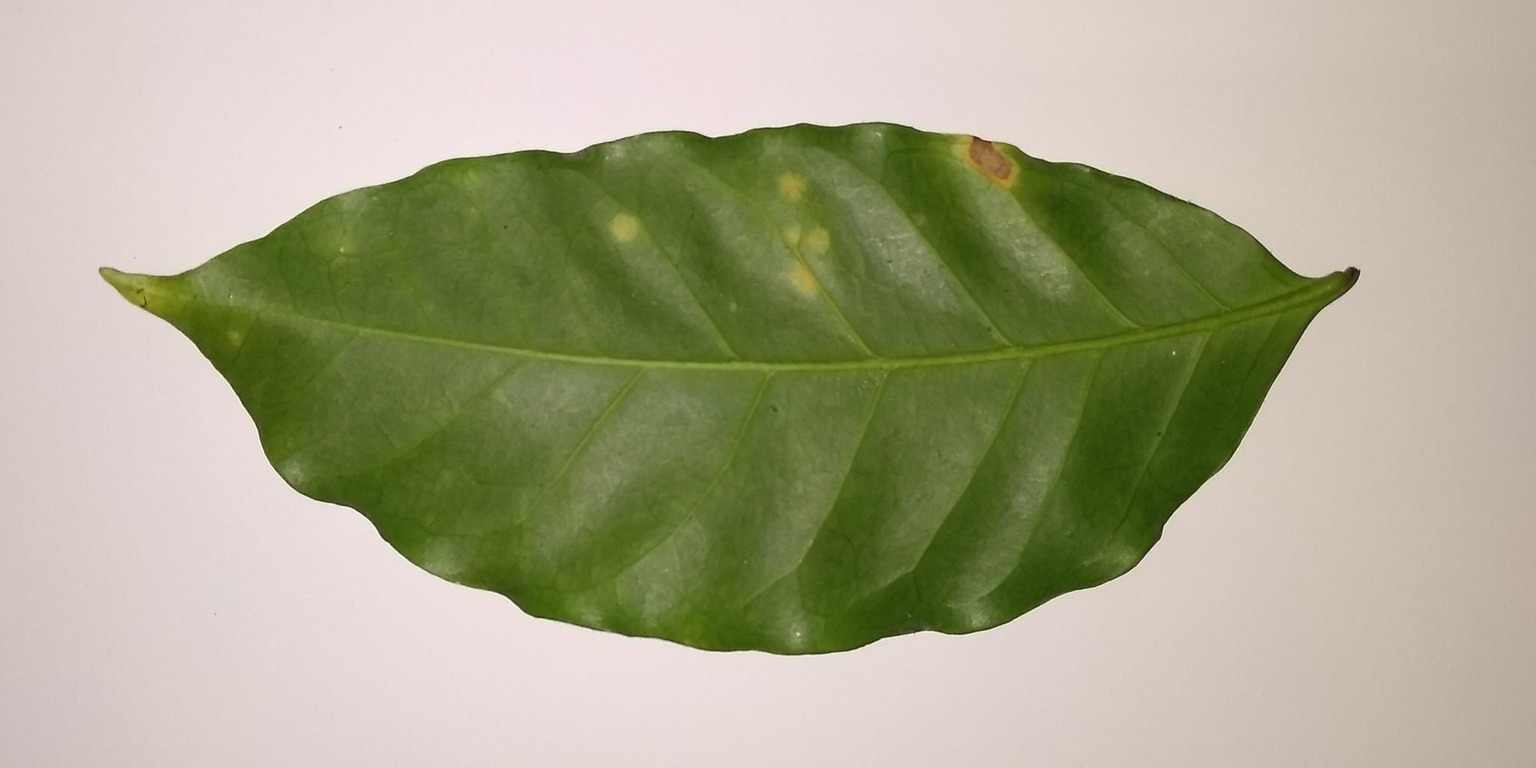Rust: (938, 118, 1038, 200)
